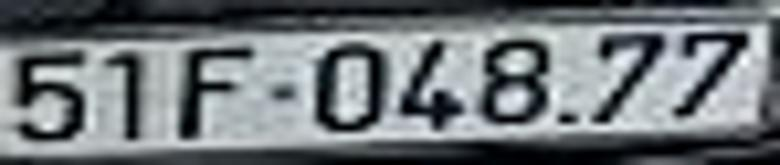-: (261, 84, 298, 101)
.: (556, 110, 577, 125)
0: (320, 44, 386, 130)
1: (109, 53, 143, 142)
4: (401, 42, 461, 130)
5: (15, 51, 86, 145)
7: (596, 32, 666, 126), (678, 31, 750, 119)
8: (484, 37, 547, 128)
F: (179, 50, 254, 141)
